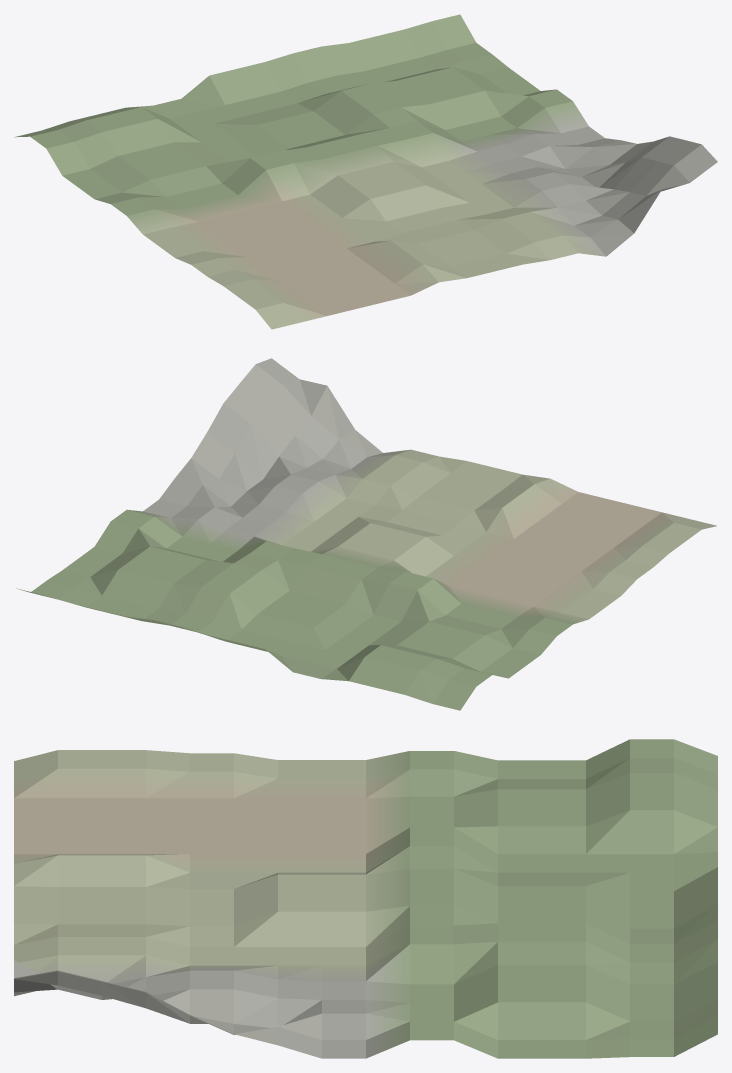
The picture shows the model from 3 angles, top to bottom: view 1: azimuth 30°, elevation 25°; view 2: azimuth 150°, elevation 25°; view 3: azimuth 270°, elevation 25°; orthographic projection. The views are drawn at different scales.
Size of the model in its own units: 32 by 5.02 by 32.
